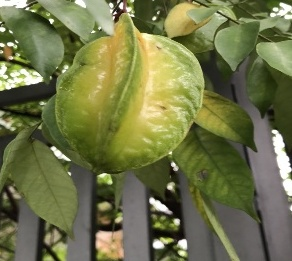Khe: (45, 13, 203, 173)
